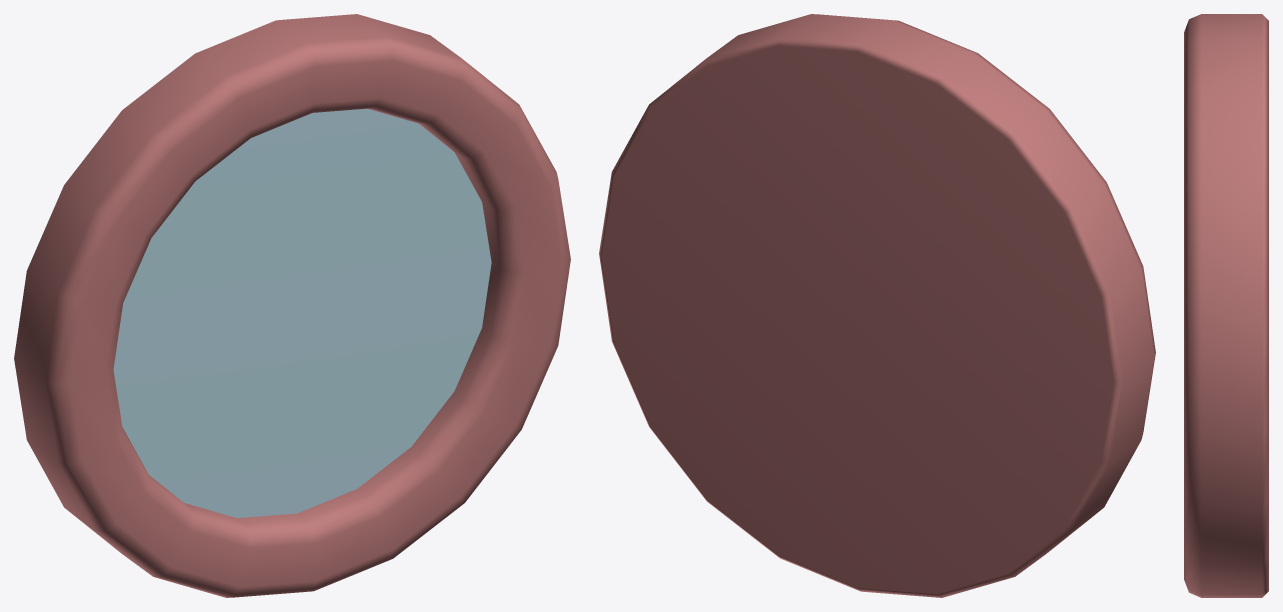
File: Mirror_1.glb
3 renders of one model, left to right at view 1: azimuth 30°, elevation 25°; view 2: azimuth 150°, elevation 25°; view 3: azimuth 270°, elevation 25°, orthographic. The views are drawn at different scales.
Visible parts, largest first — view 1: Mirror_1; view 2: Mirror_1; view 3: Mirror_1.
Part boxes in pixels (x1,y1,x2,y2): Mirror_1: [14, 14, 570, 597]; Mirror_1: [599, 14, 1155, 597]; Mirror_1: [1184, 14, 1268, 597].
Size of the model in its own units: 0.7129 by 0.7129 by 0.1026.
Materials: 1 (1 with a texture image).
